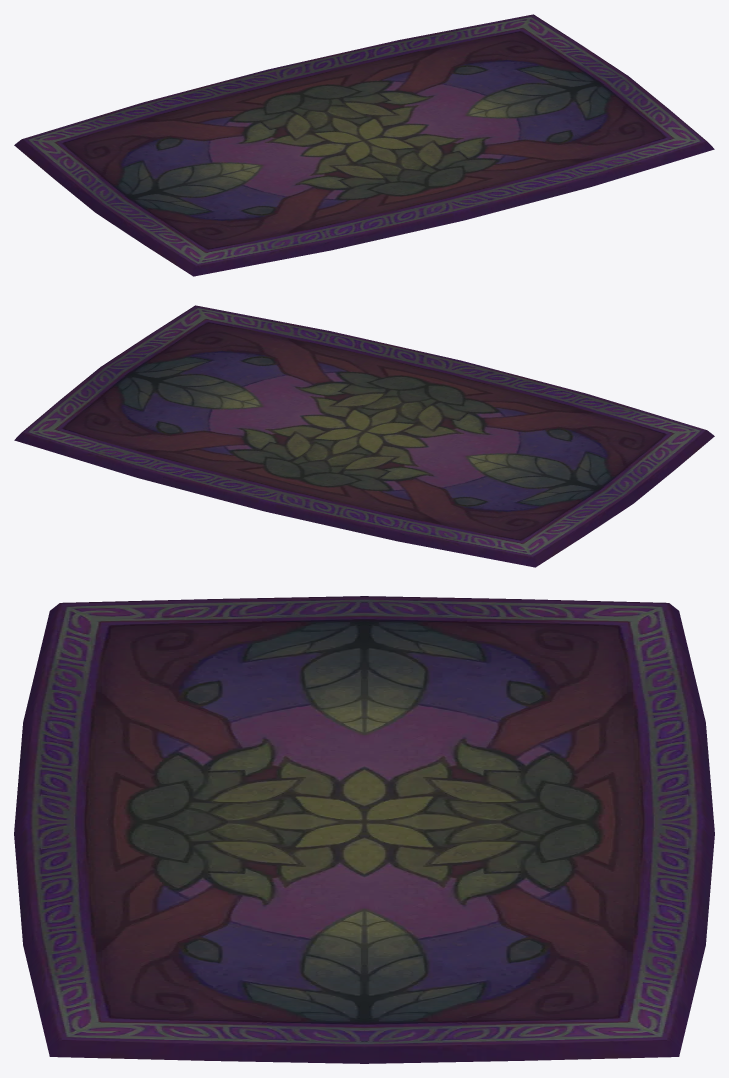
3 views of the same model, one above another, from view 1: azimuth 30°, elevation 25°; view 2: azimuth 150°, elevation 25°; view 3: azimuth 270°, elevation 25° (orthographic). The views are drawn at different scales.
Bounding box in the file's own units: 5.67 × 0.0692 × 3.65.
1 material, 1 textured.
